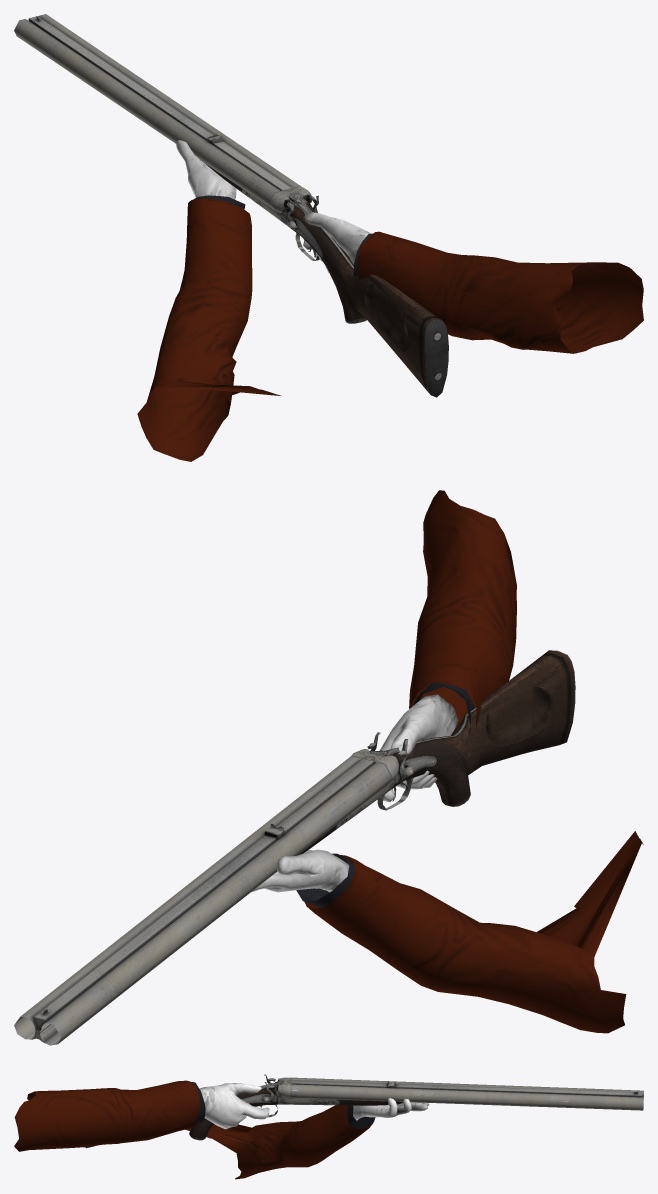
File: frame_27.obj
3 renders of one model, top to bottom at view 1: azimuth 30°, elevation 25°; view 2: azimuth 150°, elevation 25°; view 3: azimuth 270°, elevation 25°, orthographic. The views are drawn at different scales.
Visible parts, largest first — view 1: PlayerModelMerged.001_PlayerModelMerged, double_-_barreled_shotgun_L_double_-_barreled_shotgun_LP_к.001; view 2: PlayerModelMerged.001_PlayerModelMerged, double_-_barreled_shotgun_L_double_-_barreled_shotgun_LP_к.001; view 3: PlayerModelMerged.001_PlayerModelMerged, double_-_barreled_shotgun_L_double_-_barreled_shotgun_LP_к.001.
Boxes of the visible parts, x1=… form: PlayerModelMerged.001_PlayerModelMerged: x1=137, y1=140, x2=643, y2=461; double_-_barreled_shotgun_L_double_-_barreled_shotgun_LP_к.001: x1=14, y1=14, x2=448, y2=397; PlayerModelMerged.001_PlayerModelMerged: x1=252, y1=490, x2=643, y2=1033; double_-_barreled_shotgun_L_double_-_barreled_shotgun_LP_к.001: x1=14, y1=650, x2=575, y2=1045; PlayerModelMerged.001_PlayerModelMerged: x1=14, y1=1080, x2=429, y2=1179; double_-_barreled_shotgun_L_double_-_barreled_shotgun_LP_к.001: x1=85, y1=1074, x2=643, y2=1148.
Size of the model in its own units: 0.8331 by 0.5877 by 2.
